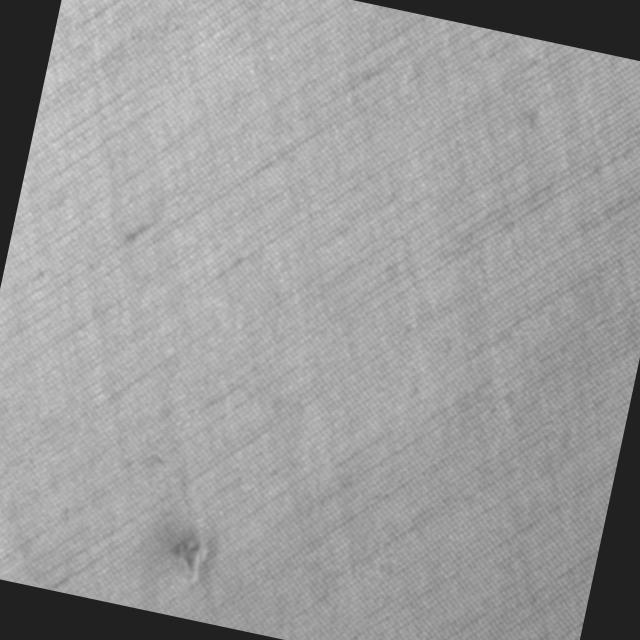objects: (160, 524, 214, 586)
